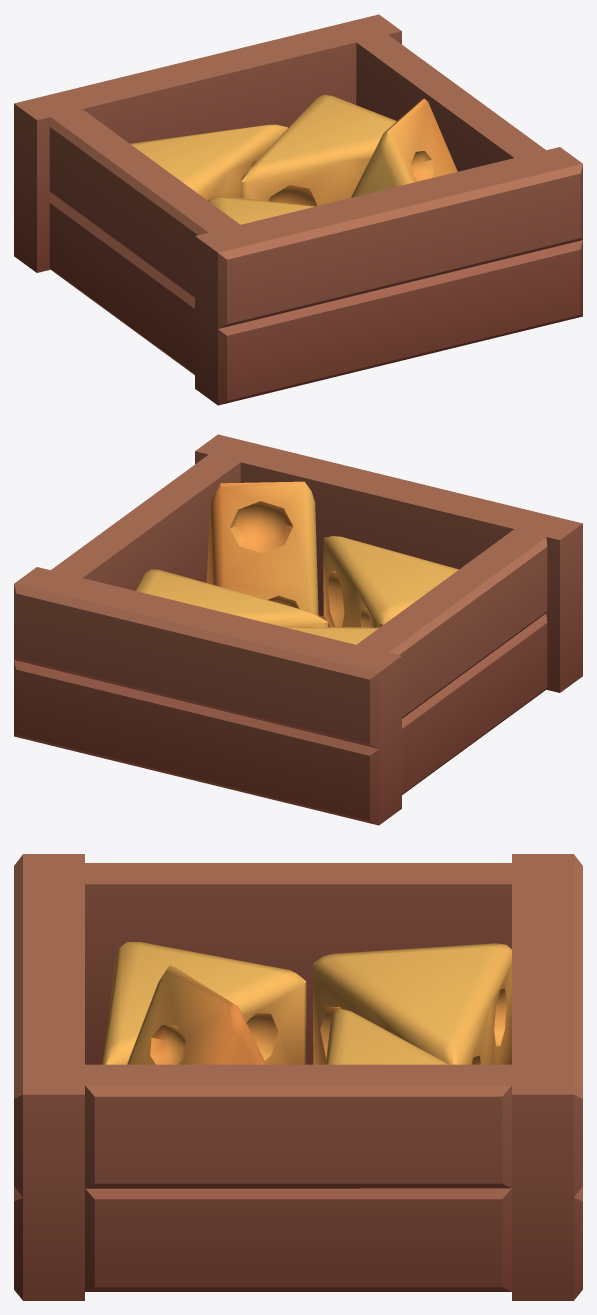
File: Crate Cheese.glb
3 renders of one model, top to bottom at view 1: azimuth 30°, elevation 25°; view 2: azimuth 150°, elevation 25°; view 3: azimuth 270°, elevation 25°, orthographic. The views are drawn at different scales.
Visible parts, largest first — view 1: crate_cheese; view 2: crate_cheese; view 3: crate_cheese.
Part boxes in pixels (left/top/right/bottom): crate_cheese: left=14, top=14, right=582, bottom=405; crate_cheese: left=14, top=434, right=582, bottom=825; crate_cheese: left=14, top=854, right=582, bottom=1300.
Bounding box in the file's own units: 2 × 0.946 × 2.
1 material, 1 textured.
